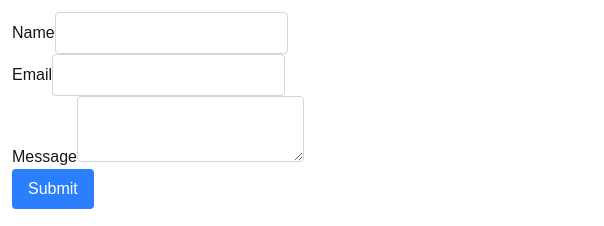
ContactForm › should display error when message loses focus and value is too short
Type "too short" into the text box labelled "Message" at (190, 129), box [77, 96, 304, 162]
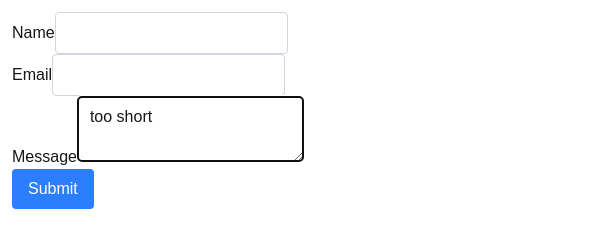
Press Tab
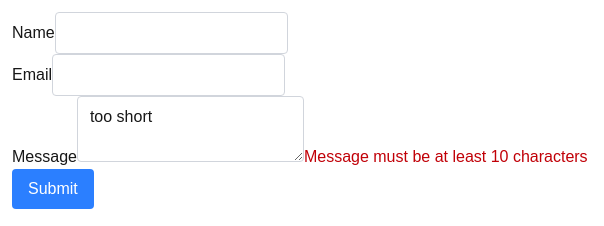
Expected: the text "Message must be at least 10 characters" is shown, [304, 148, 588, 165]
